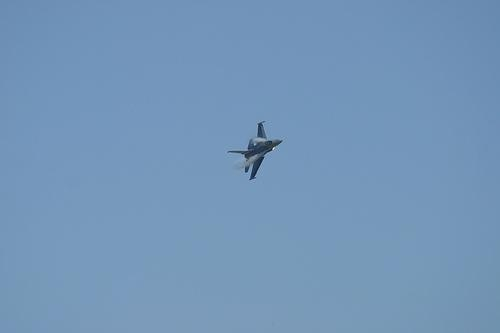aeroplane: (227, 121, 287, 181)
